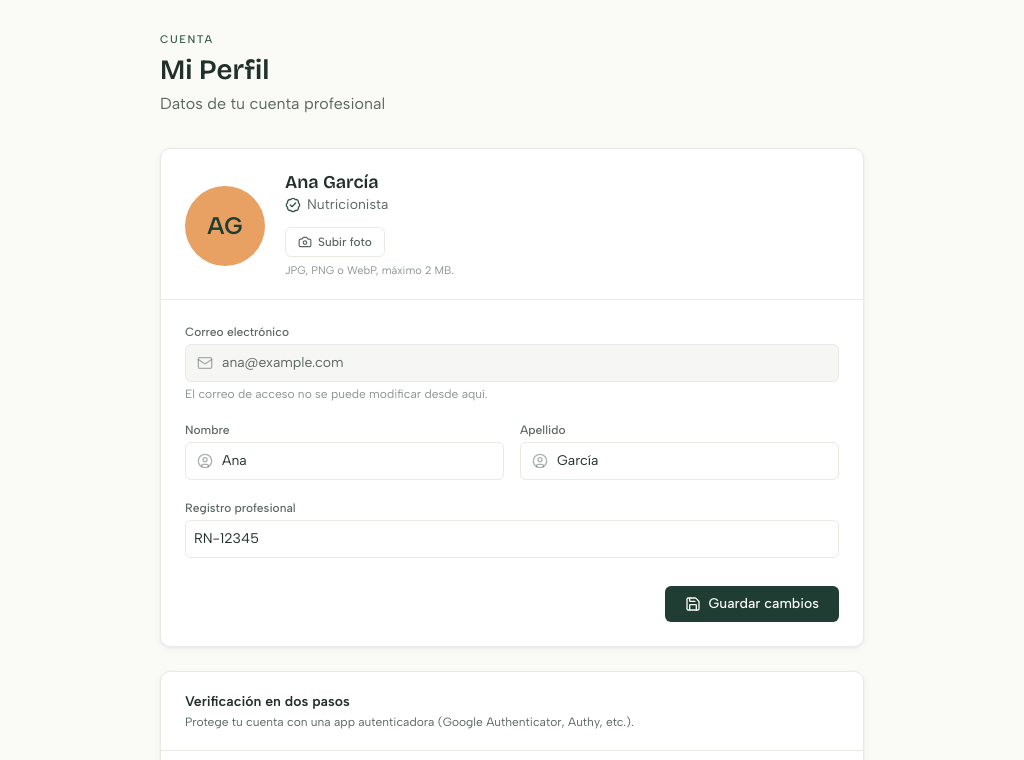
Test: MiPerfil › handleSubmit — validación › muestra error si el apellido está vacío al guardar
Step 1. Clear the field showing "García" → (680, 461), box top-left (520, 442), bottom-right (839, 480)
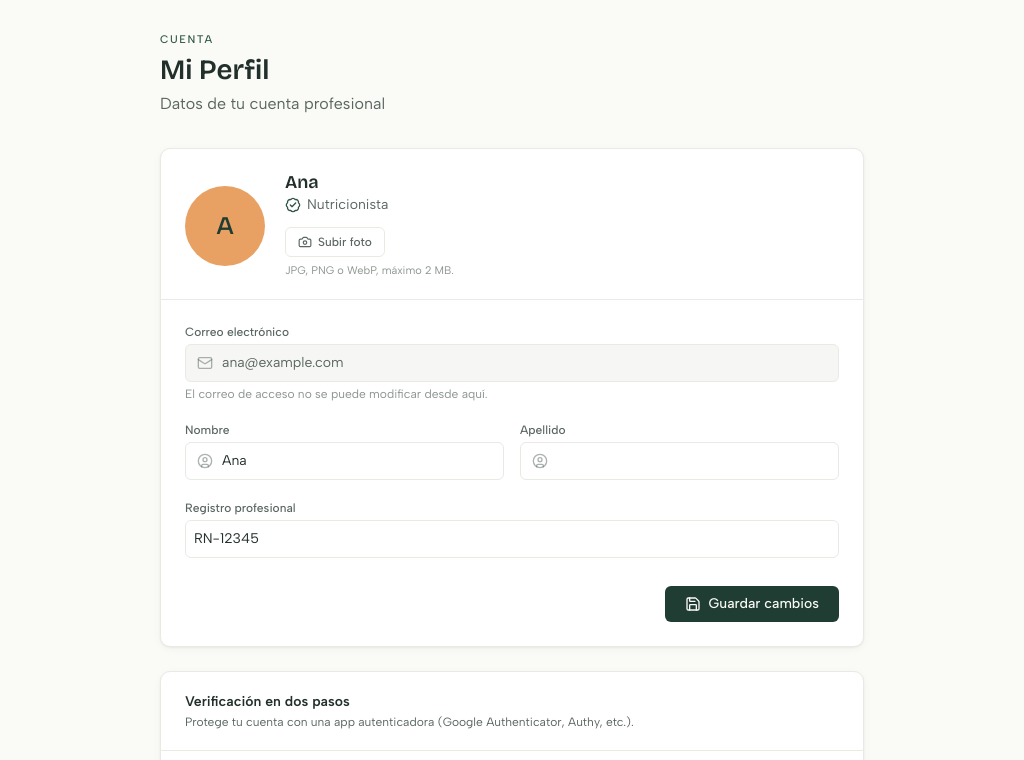
Step 2. Submit the form named "Guardar cambios", box top-left (161, 300), bottom-right (863, 646)
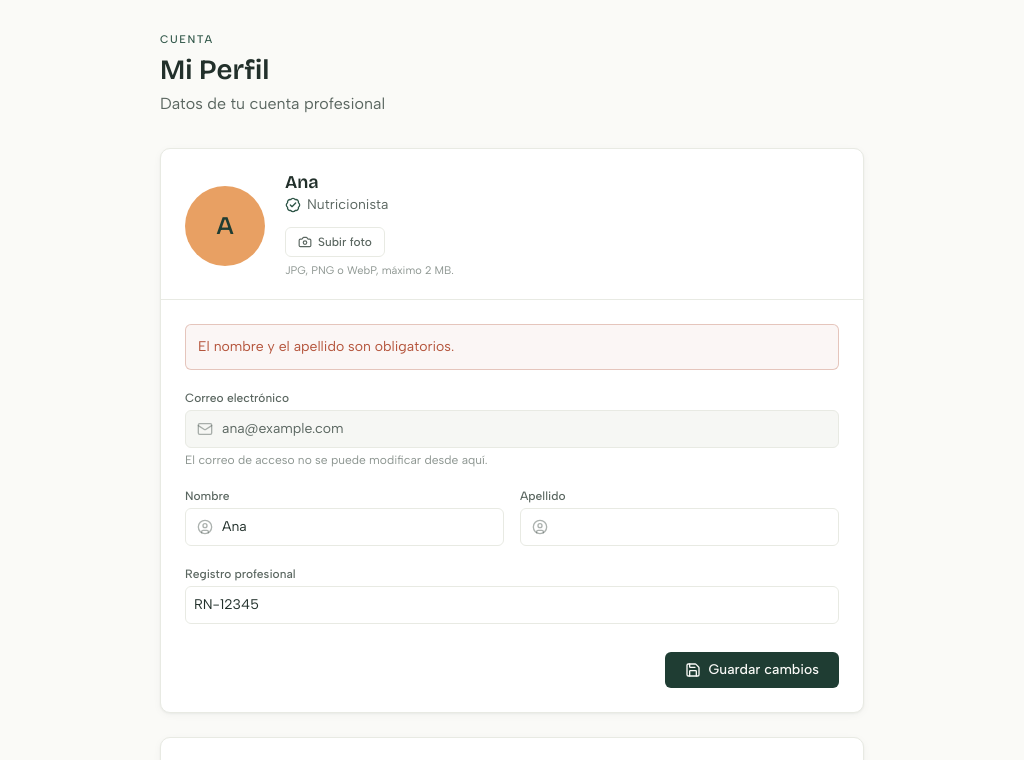
Expected: the text "El nombre y el apellido son obligatorios." is shown, top-left (185, 324), bottom-right (839, 370)
